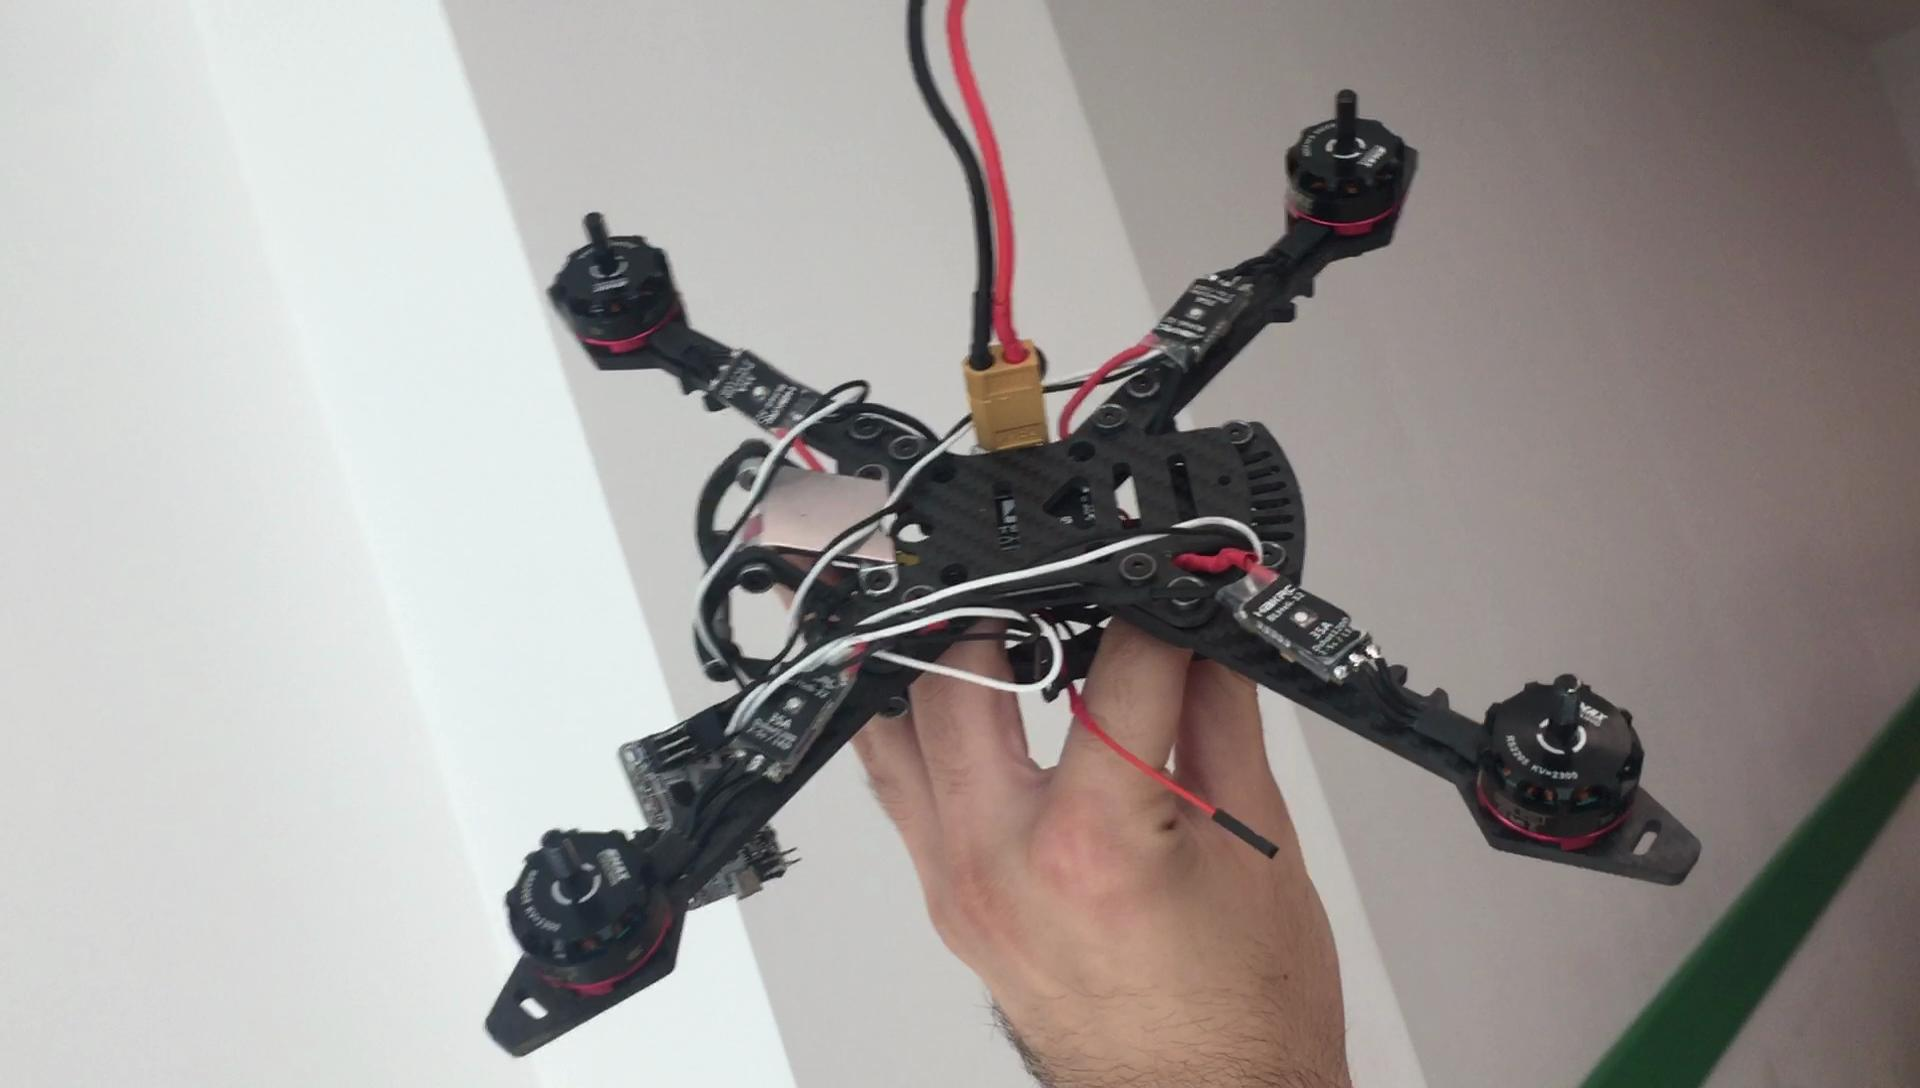drone: (487, 108, 1714, 1061)
